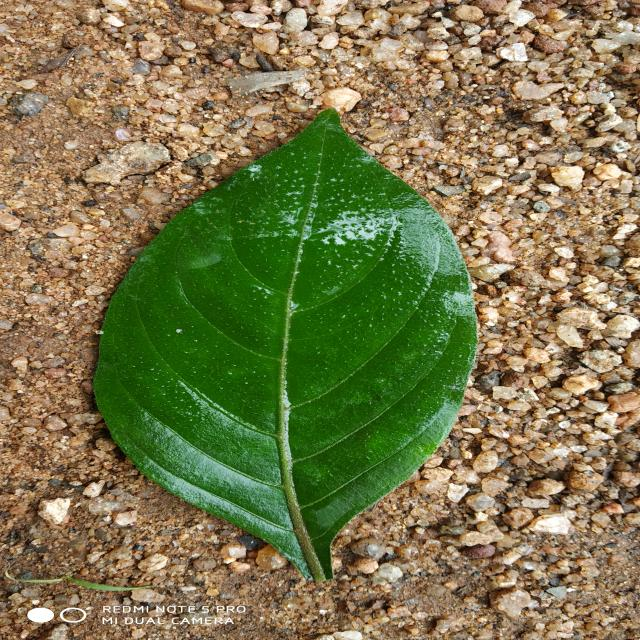ganike: (98, 109, 476, 581)
